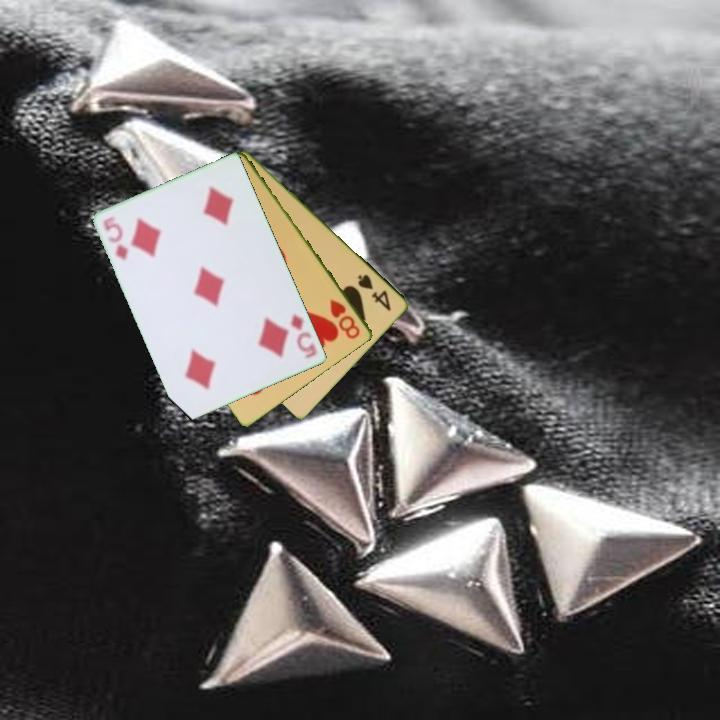4s: (354, 271, 394, 314)
5d: (287, 310, 320, 361), (100, 213, 132, 263)
8h: (327, 296, 363, 342)
